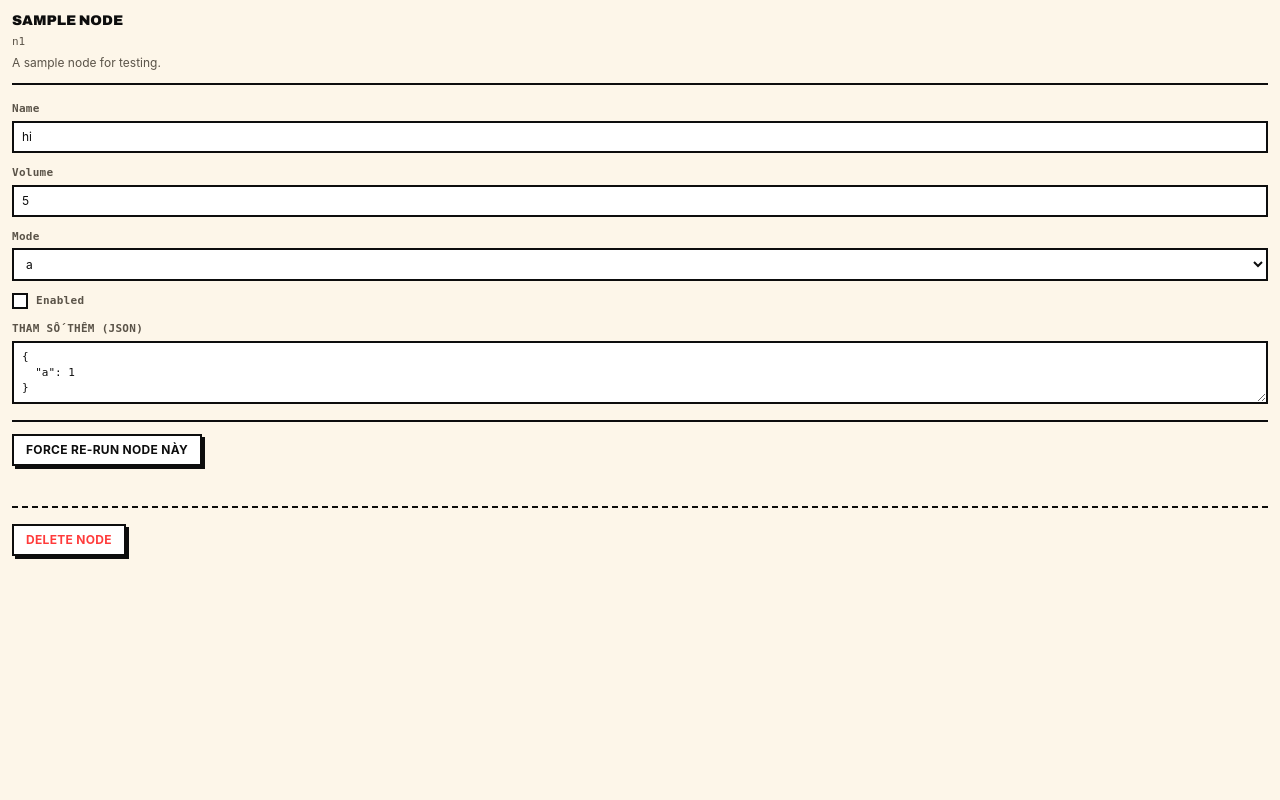
Test: ParamsPanel › does not apply a number outside min/max
This screenshot has width=1280, height=800.
Replace the text in the number field showing "5" with "99" at (640, 201), box [12,185,1268,217]
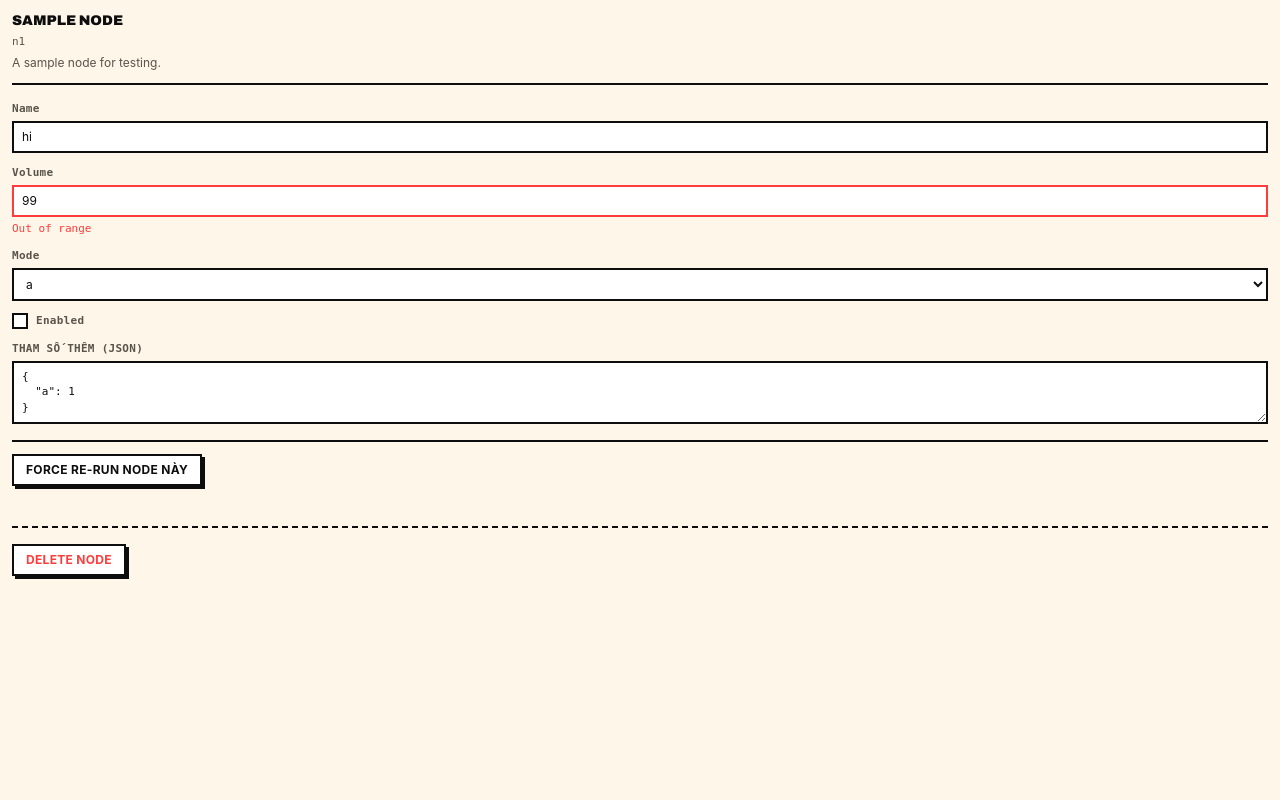
Now the text "Out of range" is shown, box [12,222,92,235]
